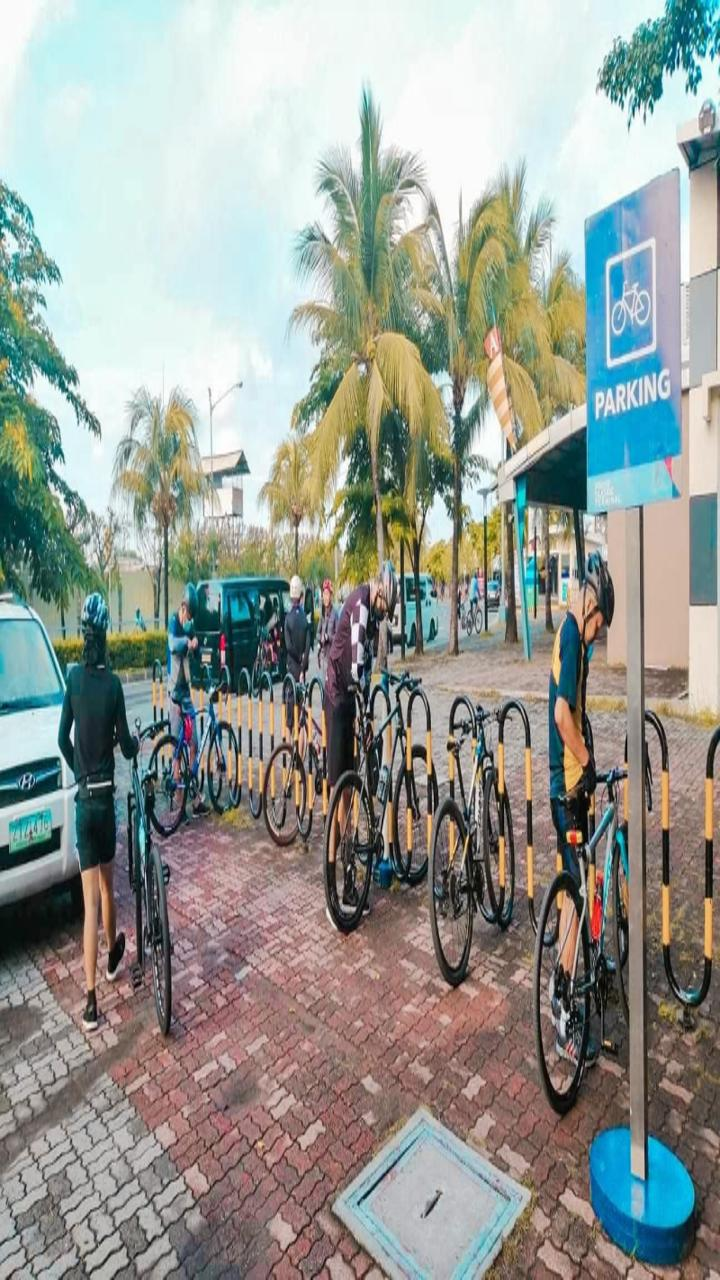bicycle: (516, 772, 643, 1116), (418, 708, 549, 1000), (323, 688, 438, 948), (112, 731, 198, 1047)
pedestrian: (54, 592, 136, 1028), (322, 569, 384, 827)
vehicle: (1, 581, 98, 916)
